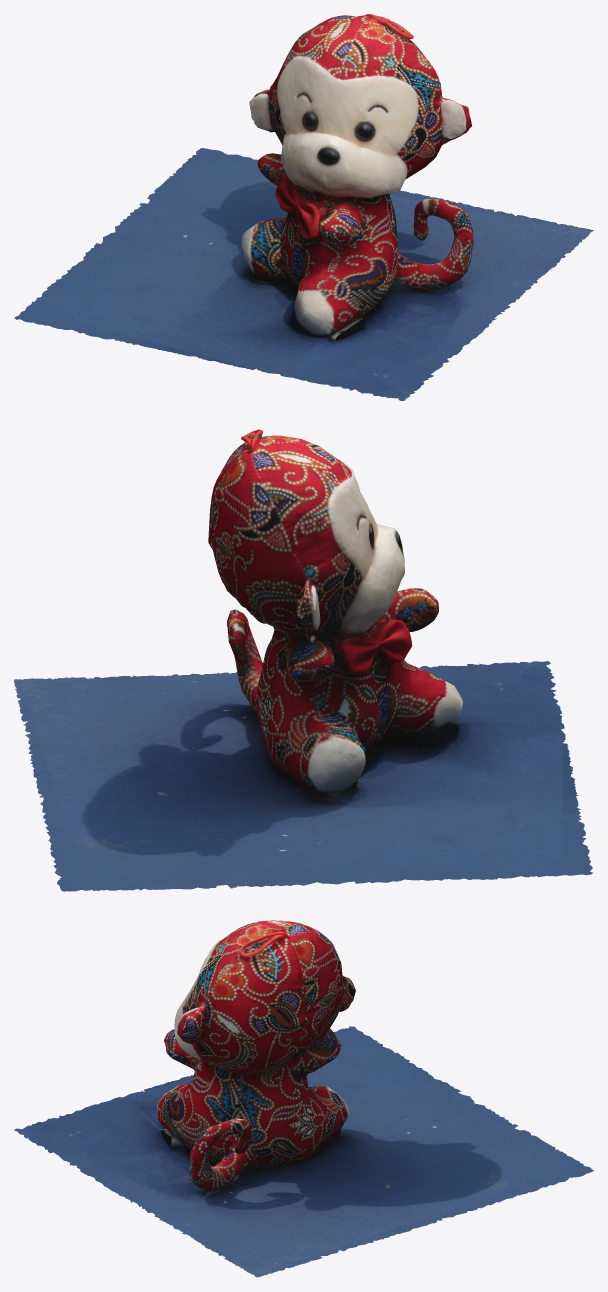
3 renders of one model, top to bottom at view 1: azimuth 30°, elevation 25°; view 2: azimuth 150°, elevation 25°; view 3: azimuth 270°, elevation 25°, orthographic. The views are drawn at different scales.
Visible parts, largest first — view 1: Object_2; view 2: Object_2; view 3: Object_2.
Boxes of the visible parts, x1=… form: Object_2: x1=14, y1=14, x2=593, y2=400; Object_2: x1=14, y1=429, x2=593, y2=891; Object_2: x1=14, y1=920, x2=593, y2=1277.
Bounding box in the file's own units: 27.43 × 12.86 × 27.2.
Materials: 1 (1 with a texture image).
